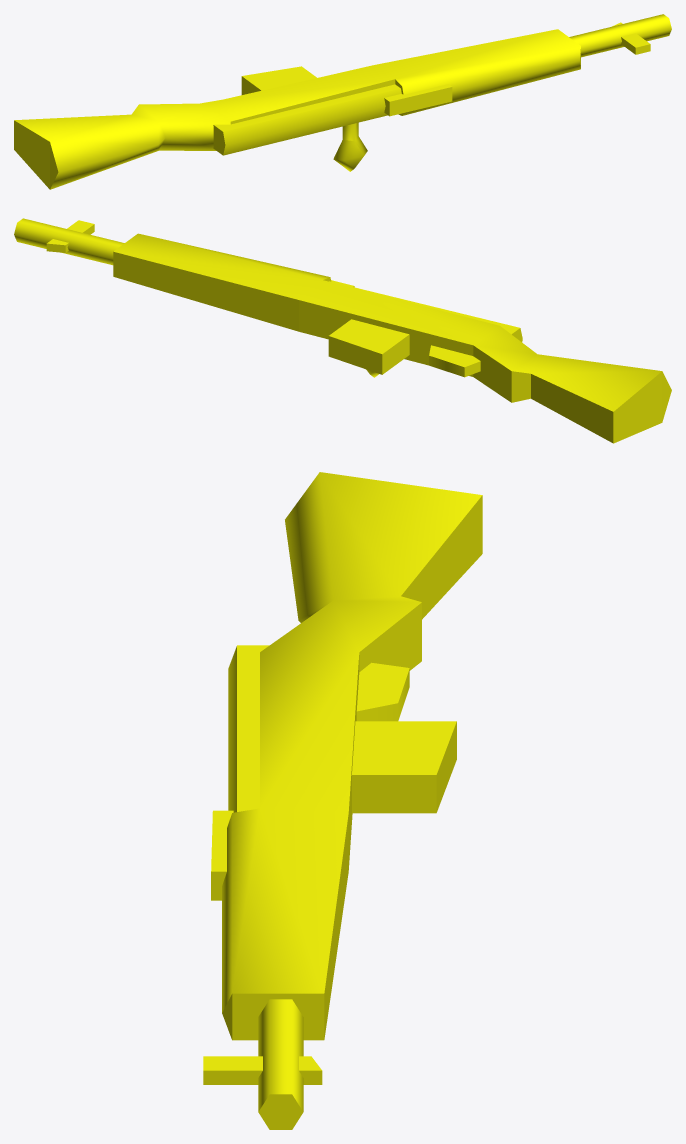
The model's file is weapon_svt40.glb.
The picture shows the model from 3 angles, top to bottom: view 1: azimuth 30°, elevation 25°; view 2: azimuth 150°, elevation 25°; view 3: azimuth 270°, elevation 25°; orthographic projection. The views are drawn at different scales.
Visible parts, largest first — view 1: weapon_svt40; view 2: weapon_svt40; view 3: weapon_svt40.
Part boxes in pixels (x1,y1,x2,y2): weapon_svt40: [14, 14, 671, 189]; weapon_svt40: [14, 218, 671, 443]; weapon_svt40: [203, 472, 482, 1129].
Size of the model in its own units: 1.81 by 0.249 by 0.3598.
1 material, 1 textured.
